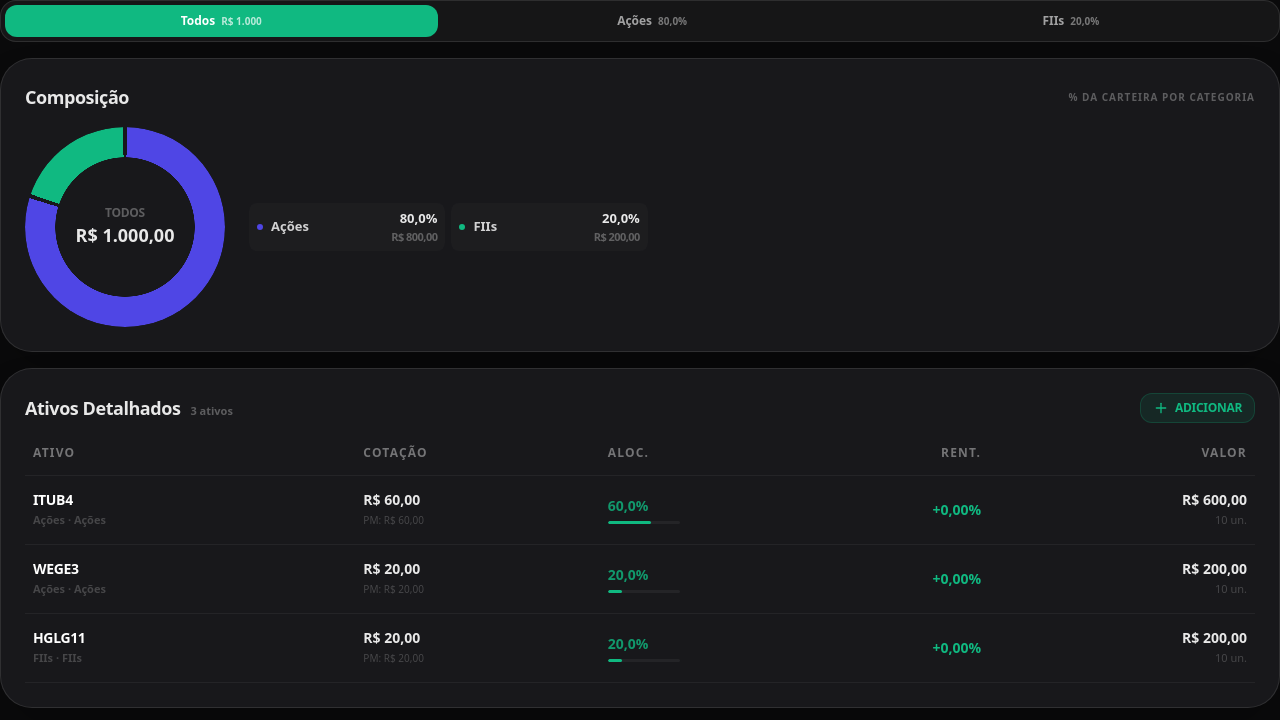
PortfolioPanel › filters by category from the chart legend
What coordinates should you click on to do the following:
click the button with test id "legend-FIIs"
I would click on:
 (550, 227)
Its box is x1=451 y1=203 x2=648 y2=251.
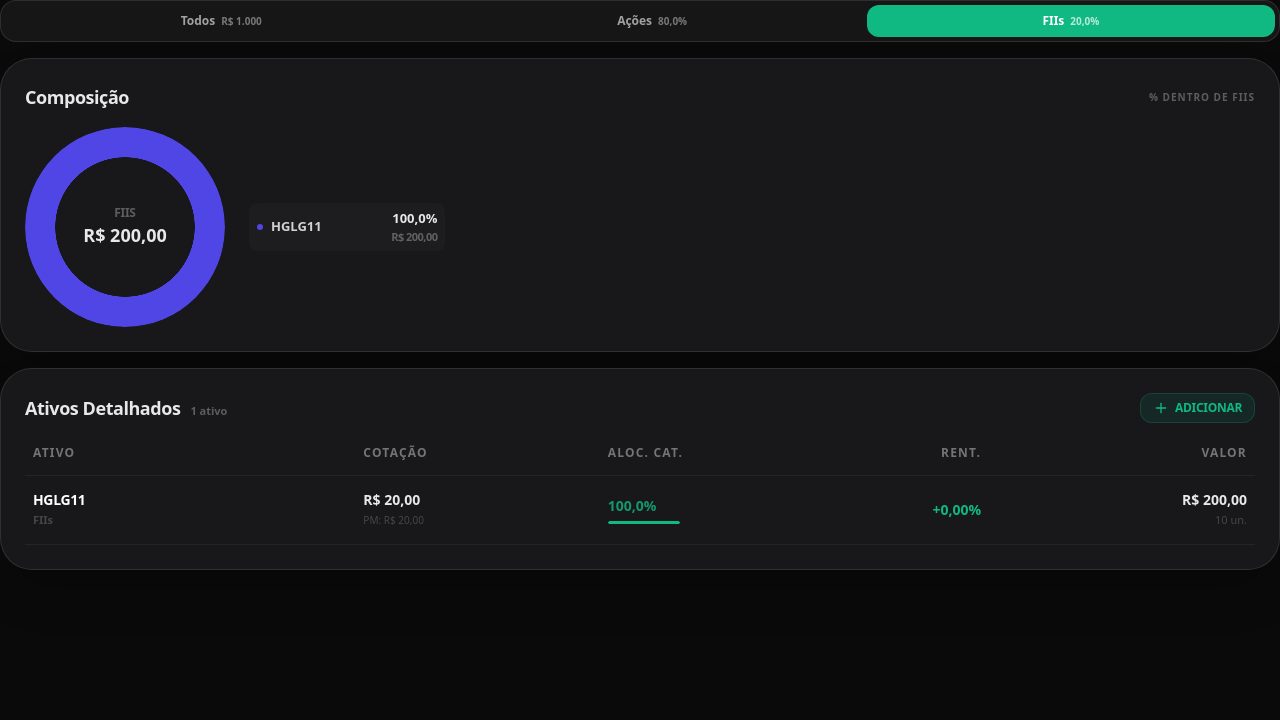
Expected: the number of elements with test id "asset-row" is 1, x1=25 y1=476 x2=1255 y2=545
